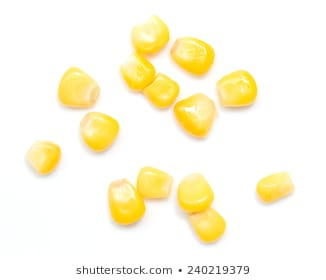corn: (173, 89, 220, 143), (55, 65, 102, 108), (108, 178, 147, 229), (170, 35, 216, 78), (78, 112, 121, 155), (129, 15, 172, 57), (216, 70, 258, 110), (177, 171, 216, 213), (25, 140, 64, 178), (188, 207, 226, 246), (134, 165, 172, 203), (254, 171, 297, 203), (141, 72, 177, 110), (120, 57, 156, 92)
